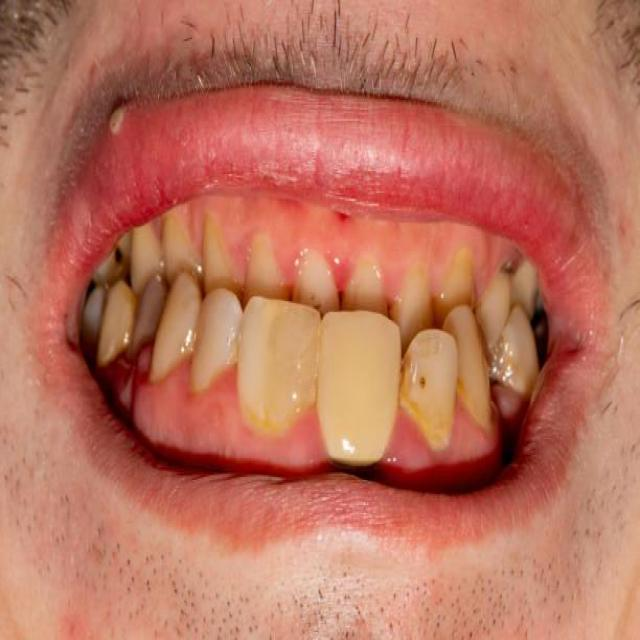caries: (494, 245, 526, 291), (106, 236, 132, 278)
